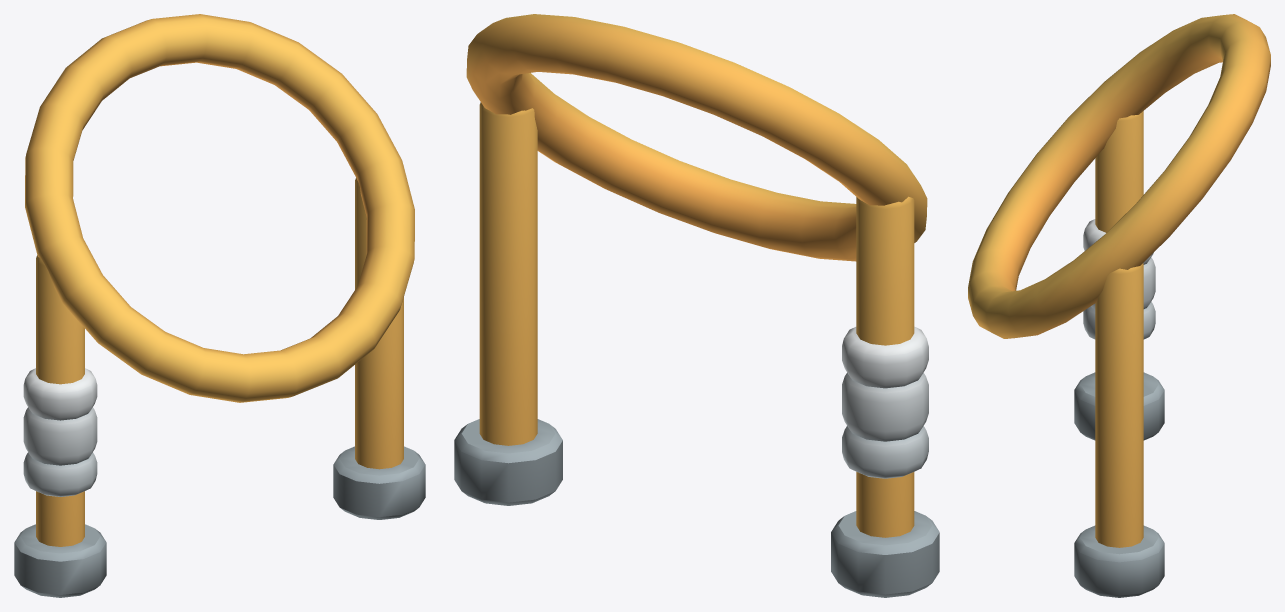
File: hoop_angled_yellow.glb
3 renders of one model, left to right at view 1: azimuth 30°, elevation 25°; view 2: azimuth 150°, elevation 25°; view 3: azimuth 270°, elevation 25°, orthographic. The views are drawn at different scales.
Visible parts, largest first — view 1: hoop_angled_yellow; view 2: hoop_angled_yellow; view 3: hoop_angled_yellow.
Boxes of the visible parts, box(x1,y1,x2,y2) form: hoop_angled_yellow: box(14, 14, 425, 597); hoop_angled_yellow: box(454, 14, 939, 597); hoop_angled_yellow: box(968, 14, 1270, 597).
Size of the model in its own units: 3.75 by 4.25 by 2.51.
Materials: 1 (1 with a texture image).
